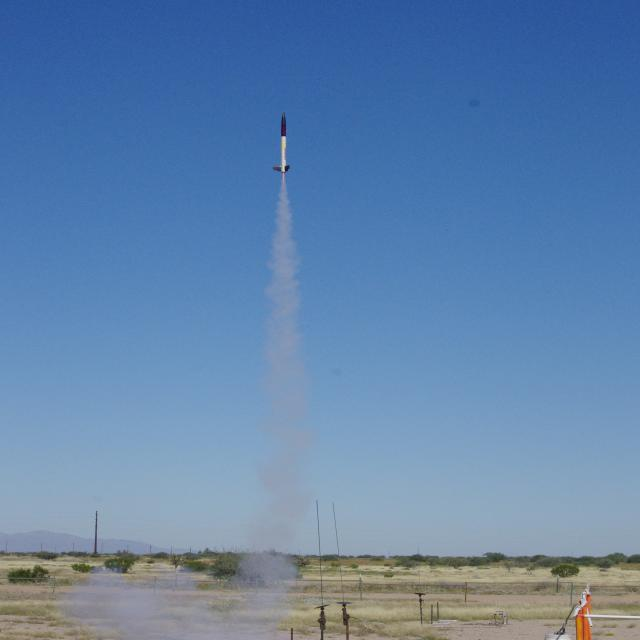Rocket: (272, 111, 291, 174)
